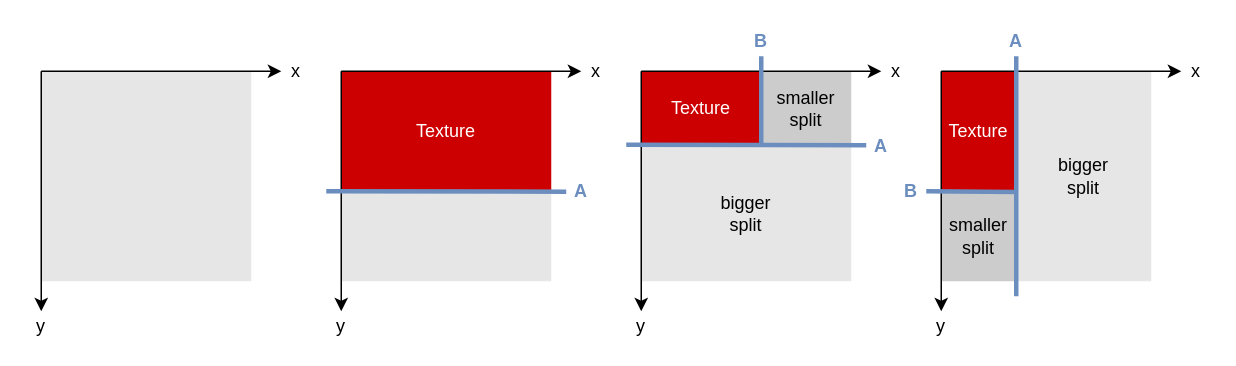
This 1236x366 diagram has some shape labels left out. The centre of each missing label's shape, as x and y in pixels:
split: point (445, 235)
texture atlas area: point (145, 175)
